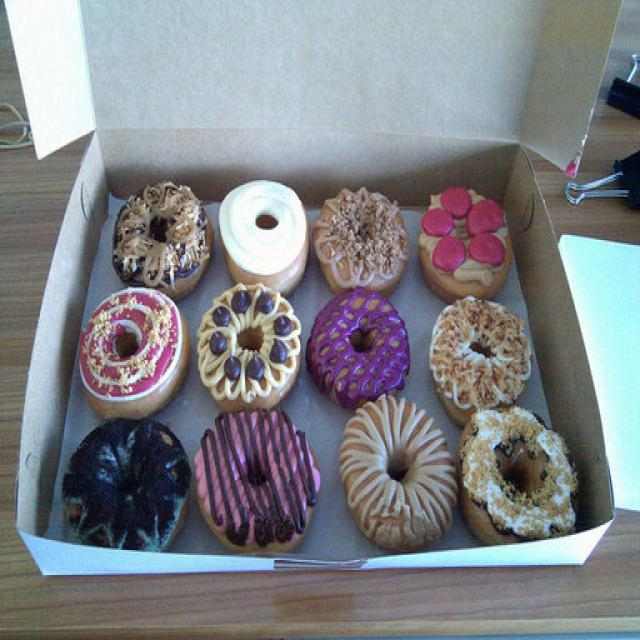Donuts: (46, 172, 615, 576)
